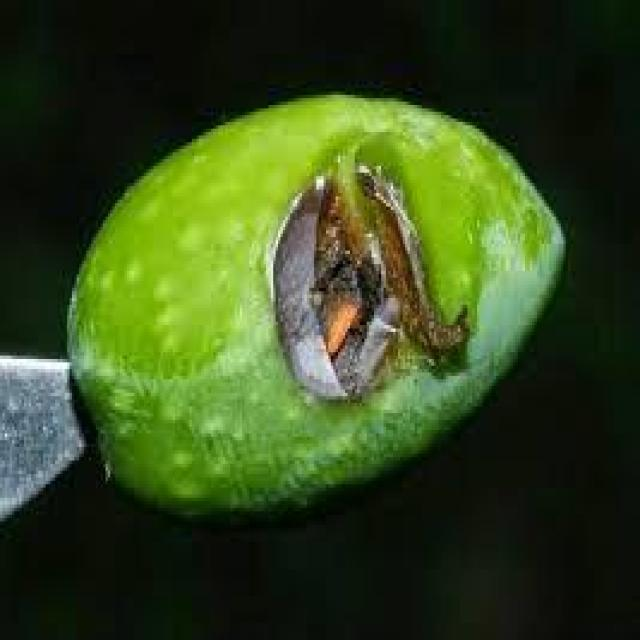Olive Fruit Fly: (67, 95, 563, 511)
